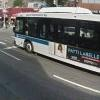buses: (11, 14, 100, 71)
